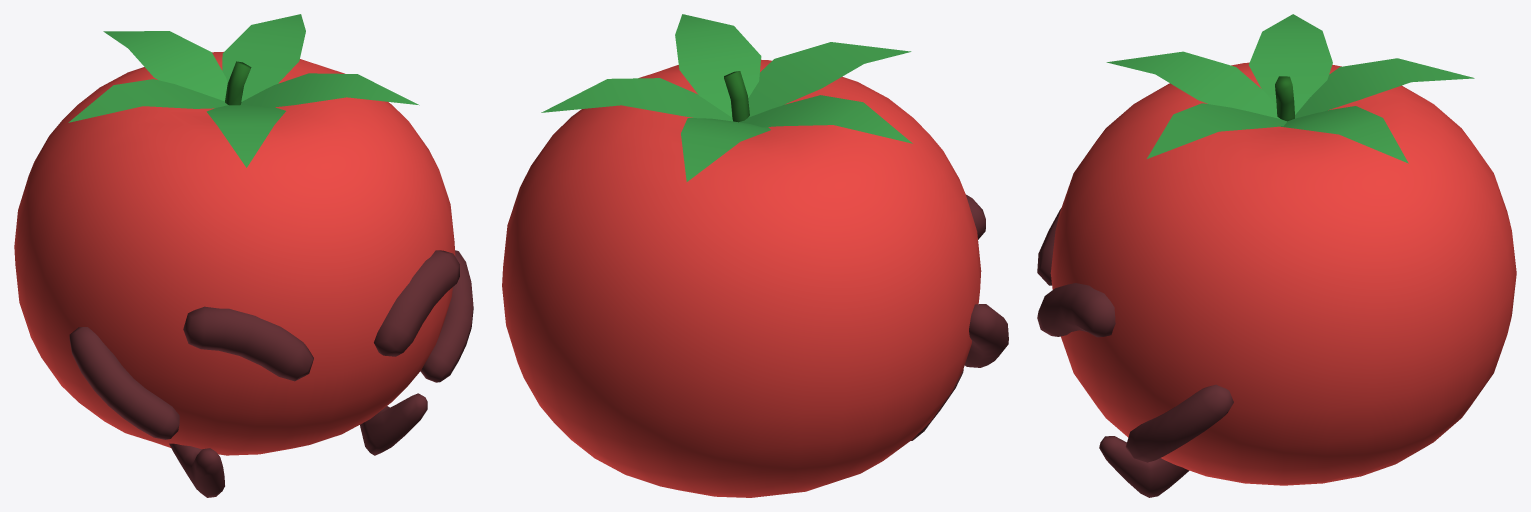
The model's file is fake_tomato.glb.
The picture shows the model from 3 angles, left to right: view 1: azimuth 30°, elevation 25°; view 2: azimuth 150°, elevation 25°; view 3: azimuth 270°, elevation 25°; orthographic projection. The views are drawn at different scales.
Visible parts, largest first — view 1: Cube.009, Cube.010; view 2: Cube.009, Cube.010; view 3: Cube.009, Cube.010.
Boxes of the visible parts, x1,y1,x2,y2 form: Cube.009: (14,14,455,455); Cube.010: (69,250,473,497); Cube.009: (502,14,981,497); Cube.010: (911,194,1008,440); Cube.009: (1050,14,1516,485); Cube.010: (1037,208,1233,497).
Bounding box in the file's own units: 0.1177 × 0.1034 × 0.1175.
